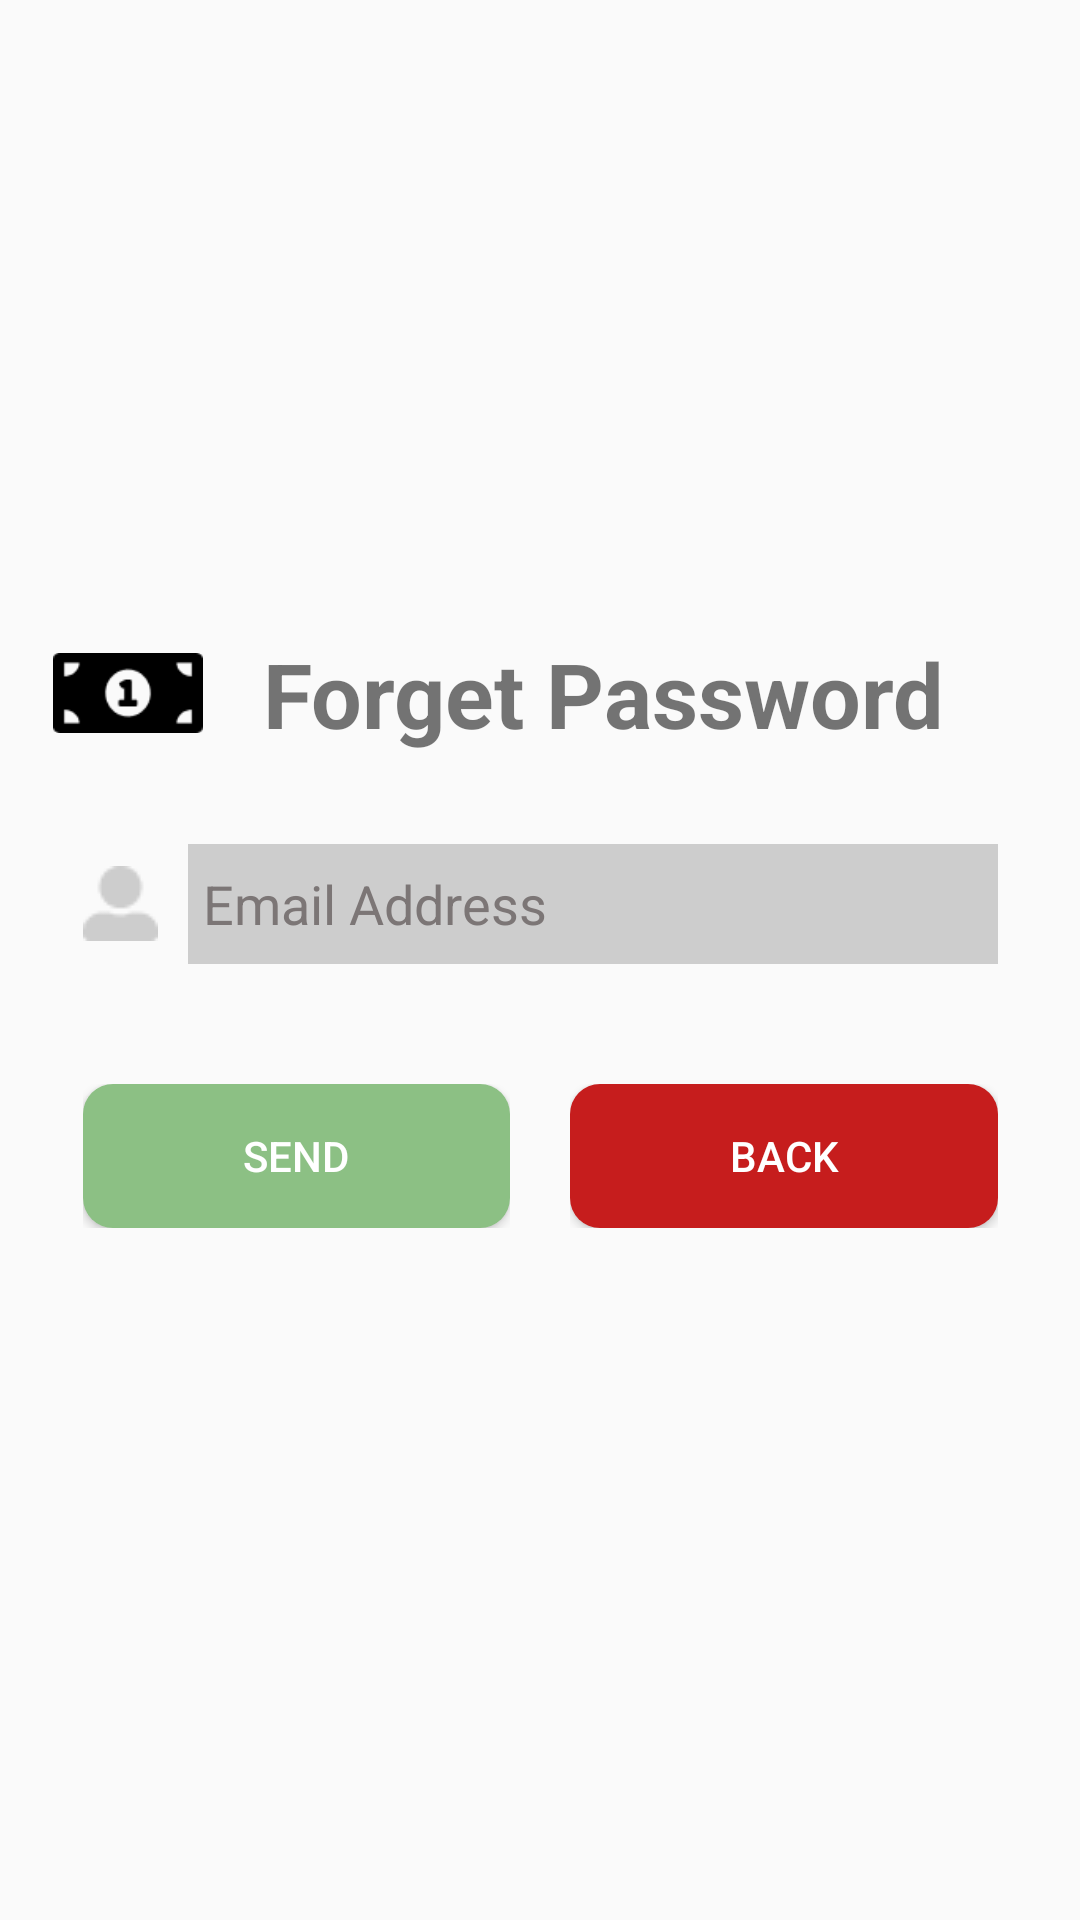

Where to tap for icons on this 1080x1920 app screen, as (x=x, y=y):
money: (x=128, y=693)
